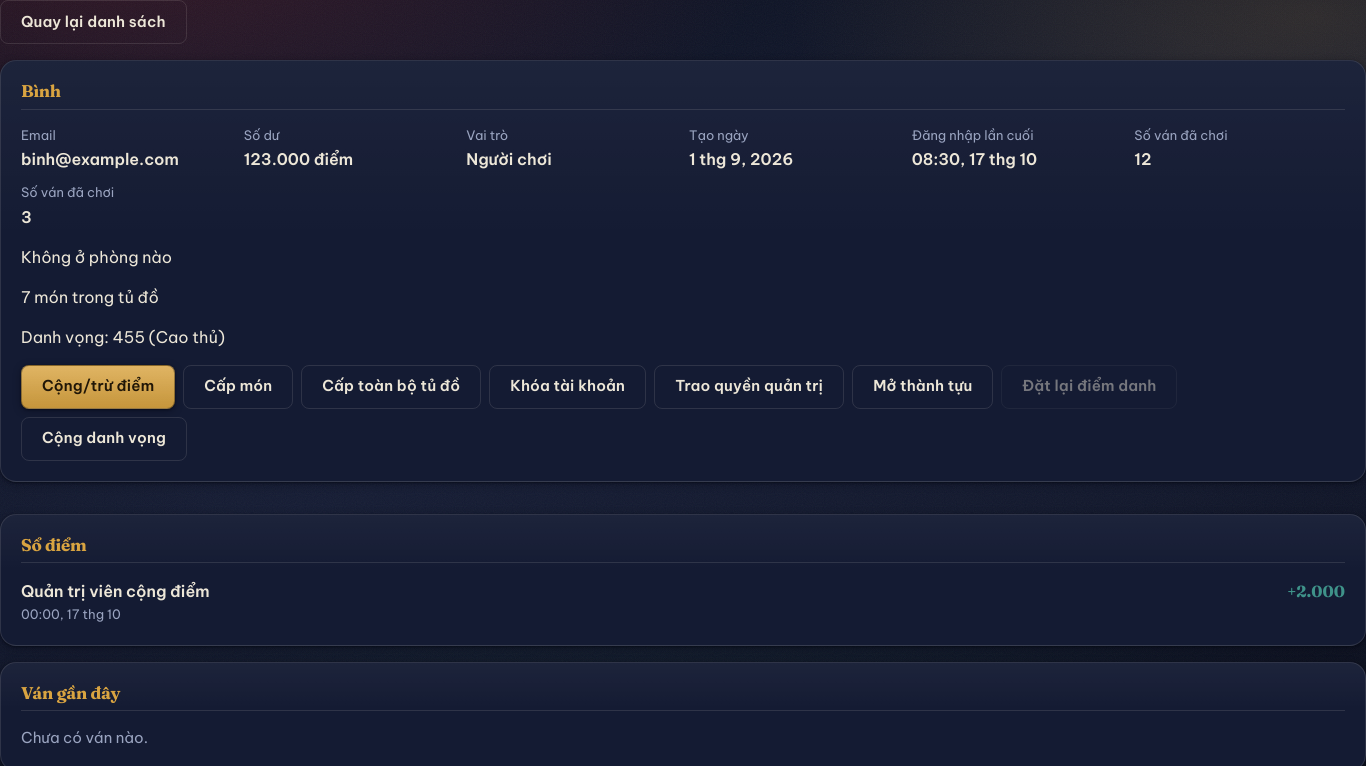
PlayerDetail › moves points with a reason, then reads the account again and says what happened
Expected: the text "binh@example.com" is shown, [21,149,179,169]
Click the button "Cộng/trừ điểm". click: coordinates (98, 386)
box: [21,364,175,408]
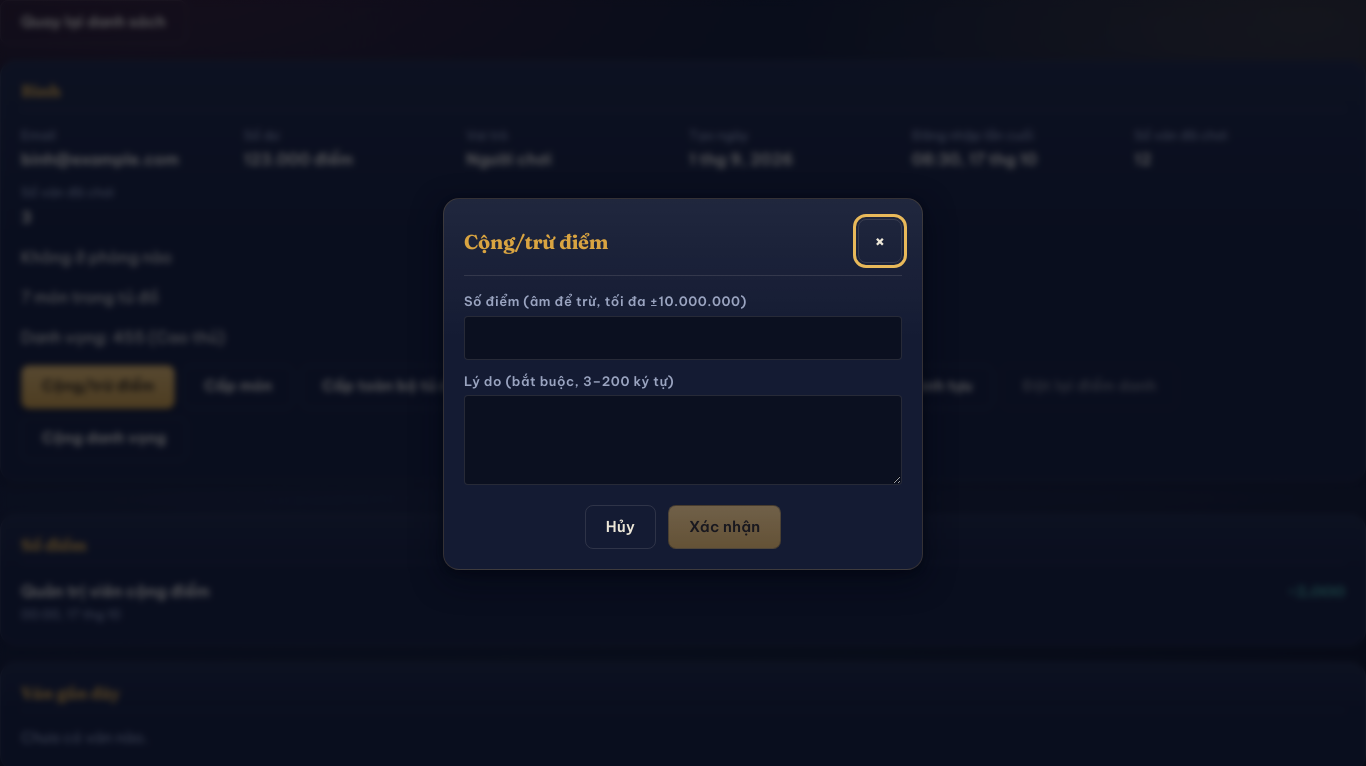
Type "-500" into the field labelled "Số điểm (âm để trừ, tối đa ±10.000.000)". click: coordinates (683, 338)
box: [464,316,902,360]
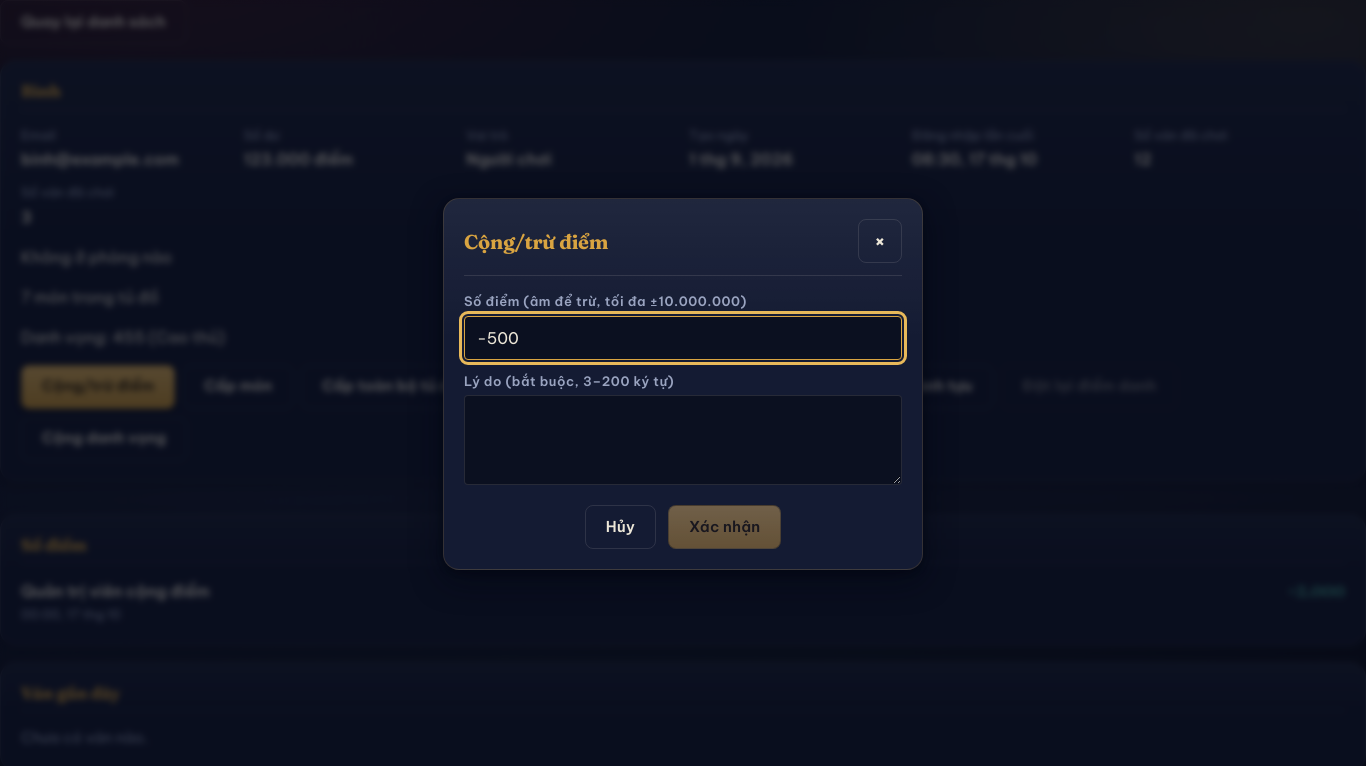
Type "sửa" into the text box labelled "Lý do (bắt buộc, 3–200 ký tự)". click: coordinates (683, 440)
box: [464,395,902,485]
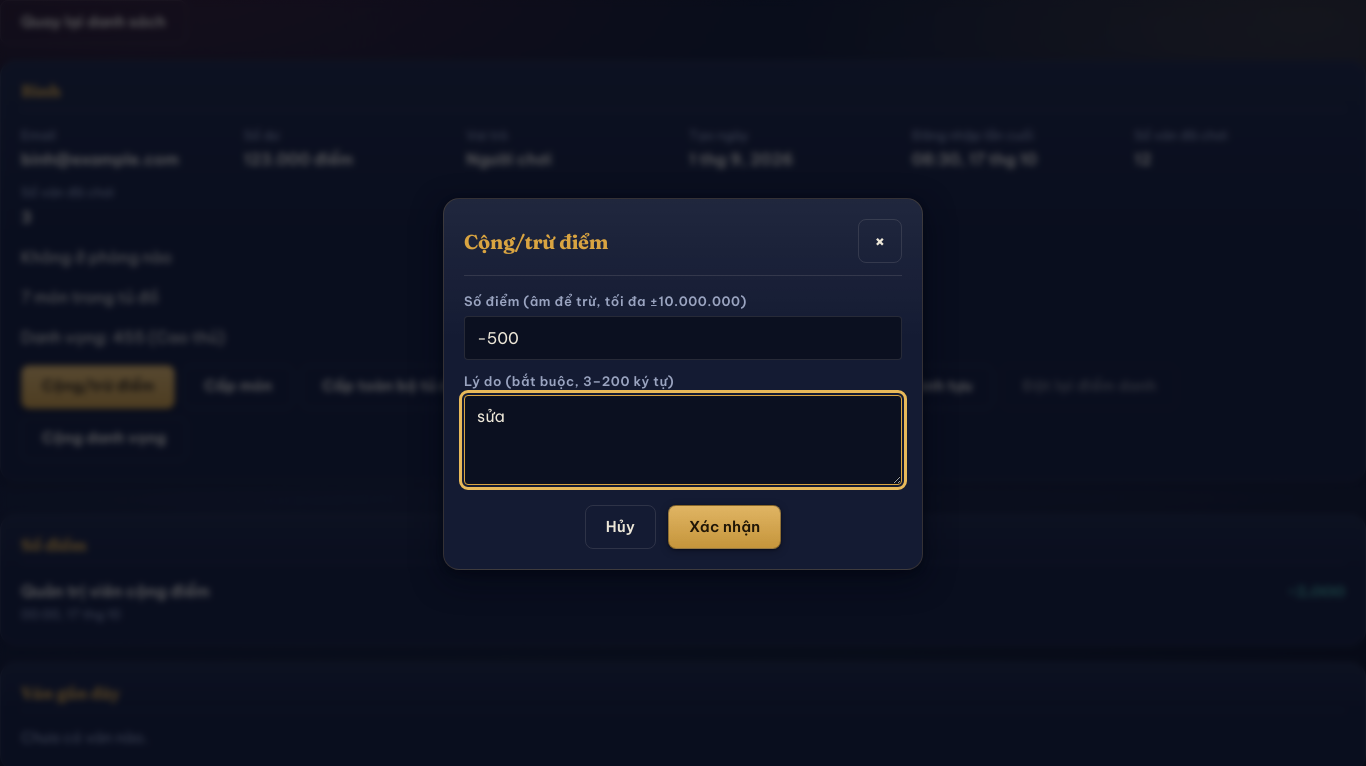
Click the button "Xác nhận". click: coordinates (725, 527)
box: [668,505,781,549]
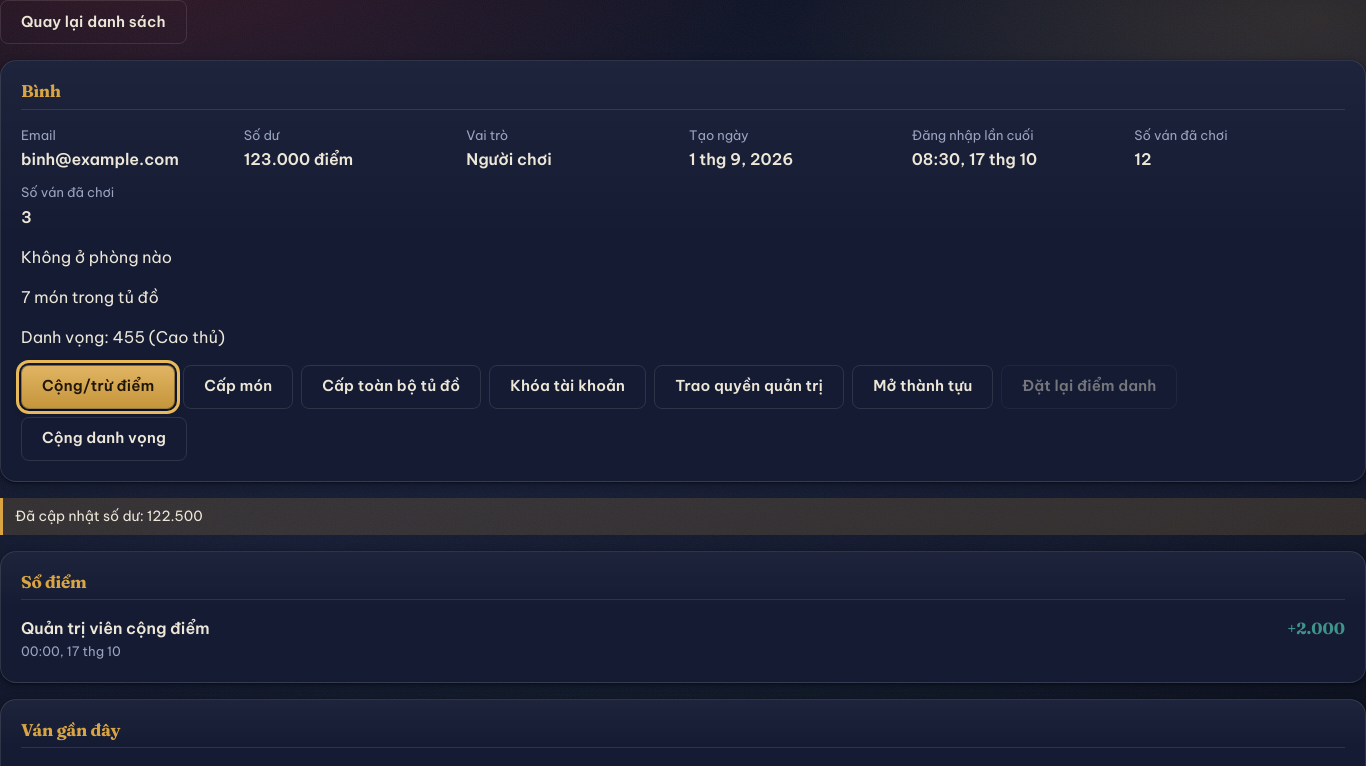
Expected: the message shows "Đã cập nhật số dư", [15,506,203,524]
Expected: the dialog is gone
